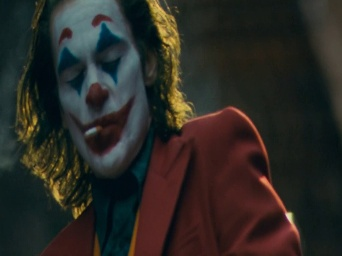smoke: (84, 124, 103, 138)
